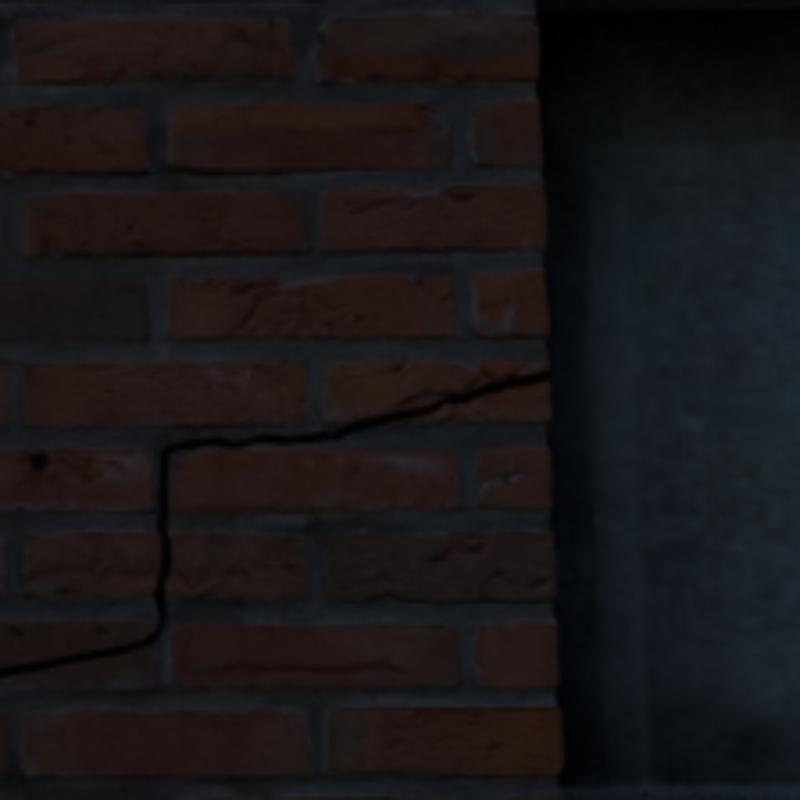crack: (154, 439, 223, 617), (246, 402, 440, 440), (0, 628, 158, 671), (445, 375, 543, 400)
